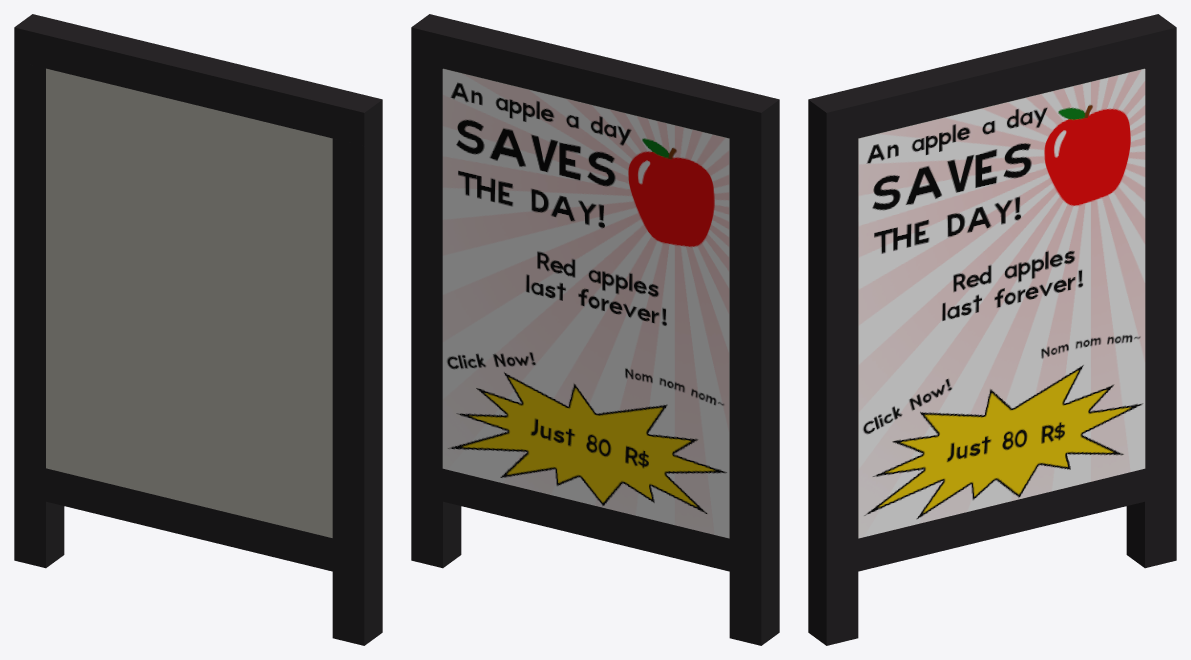
The picture shows the model from 3 angles, left to right: view 1: azimuth 30°, elevation 25°; view 2: azimuth 210°, elevation 25°; view 3: azimuth 270°, elevation 25°; orthographic projection.
Visible parts, largest first — view 1: Board1, Part1, Part4, Part3, Part2; view 2: Board2, Part3, Part4, Part1, Part2, Board1; view 3: Board2, Part1, Part4, Part3, Part2, Board1.
Part boxes in pixels (x1,y1,x2,y2): Board1: (46,68,332,537); Part1: (332,133,382,645); Part4: (14,14,382,145); Part3: (14,61,64,568); Part2: (46,468,332,571); Board2: (442,69,729,538); Part3: (729,133,779,645); Part4: (411,14,779,145); Part1: (411,61,461,568); Part2: (443,468,729,571); Board1: (443,68,729,537); Board2: (858,69,1145,538); Part1: (808,133,858,645); Part4: (808,14,1176,145); Part3: (1126,61,1176,568); Part2: (858,468,1144,571); Board1: (858,68,1144,537).
Bounding box in the file's own units: 6.37 × 16 × 10.03.
3 materials, 1 textured.
